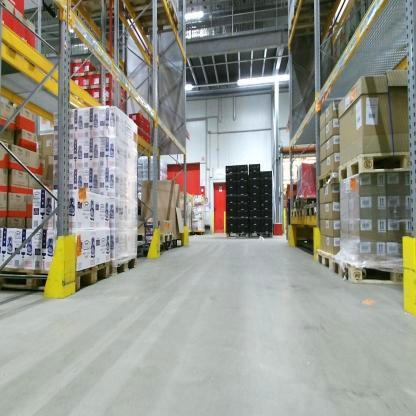pallets: (316, 248, 406, 284), (336, 148, 416, 186), (72, 254, 138, 296), (0, 268, 52, 291), (288, 193, 318, 221), (159, 232, 176, 245)
